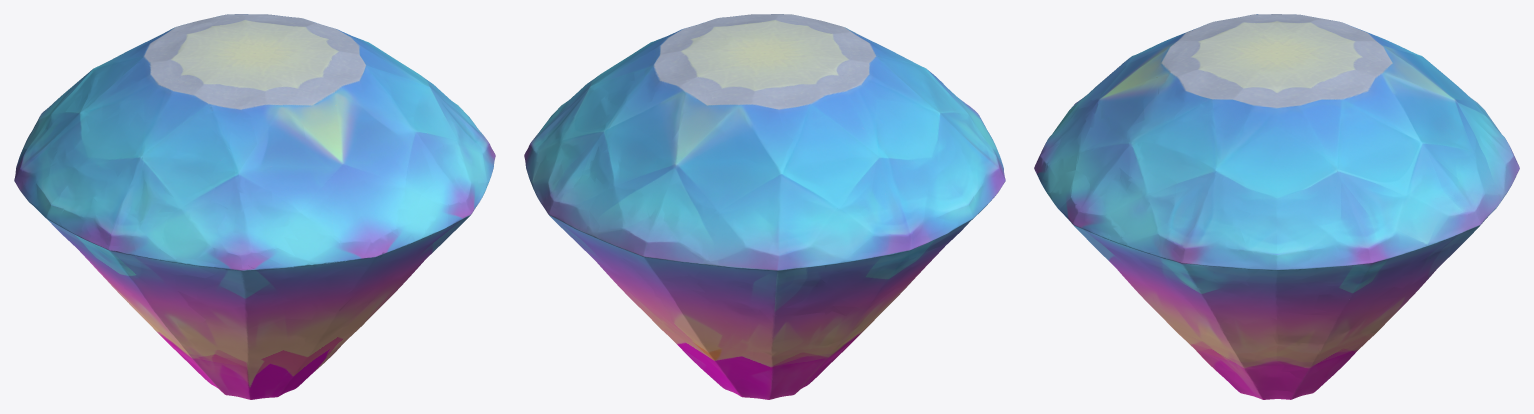
Rendered from meshy-1795547084755.glb.
3 renders of one model, left to right at view 1: azimuth 30°, elevation 25°; view 2: azimuth 150°, elevation 25°; view 3: azimuth 270°, elevation 25°, orthographic.
Bounding box in the file's own units: 1.9 × 1.43 × 1.9.
1 material, 1 textured.
